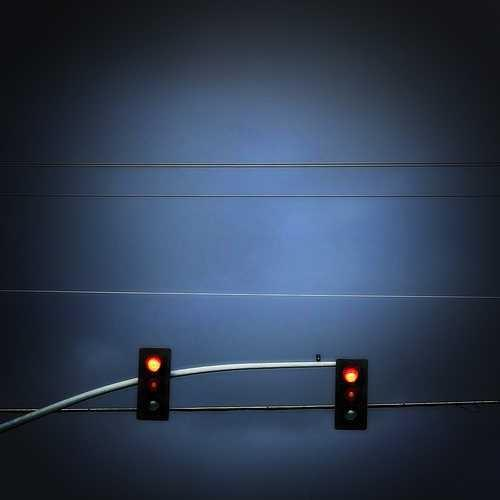red: (137, 346, 173, 421), (334, 357, 370, 431)
